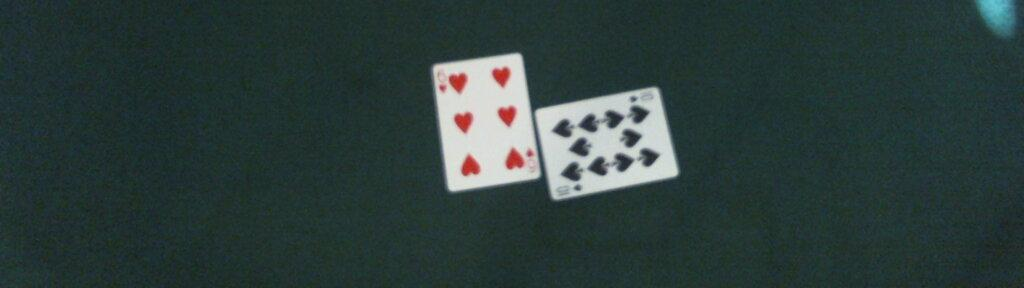six: (431, 52, 542, 192)
ten: (535, 85, 679, 202)
